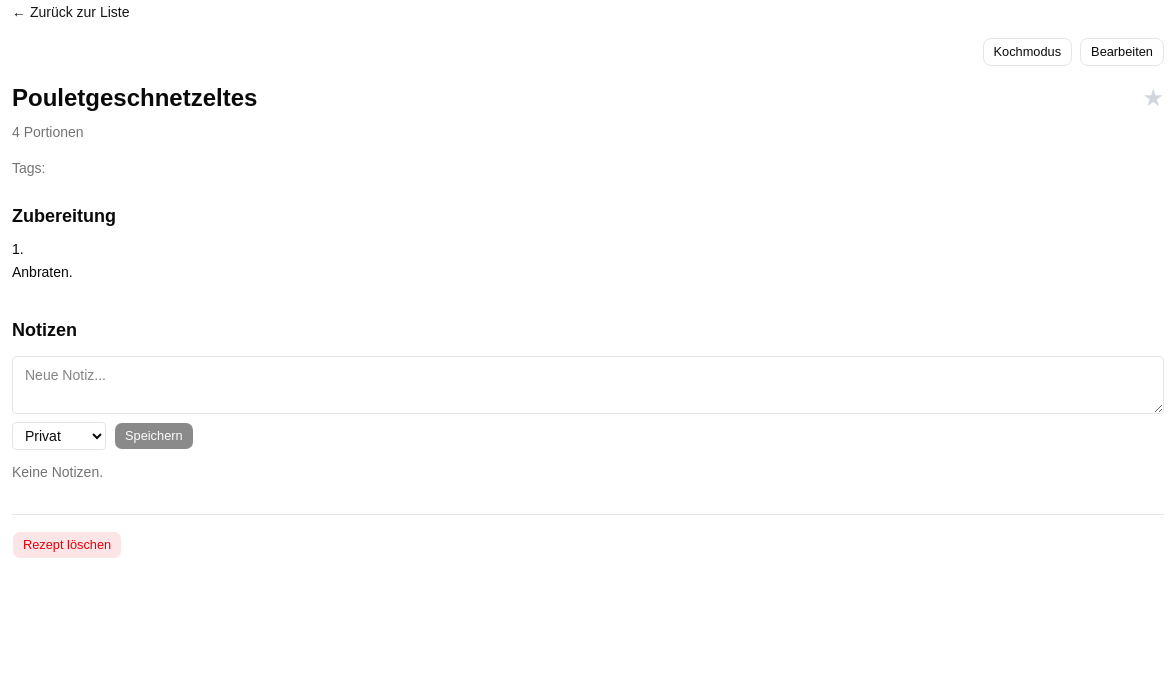
Test: RecipeDetailPage extended edit mode › edit form toggle reveals extended fields
What coordinates should you click on to do the following:
click the button "Bearbeiten"
I would click on:
 (1122, 52)
Its box is [1080,38,1164,66].
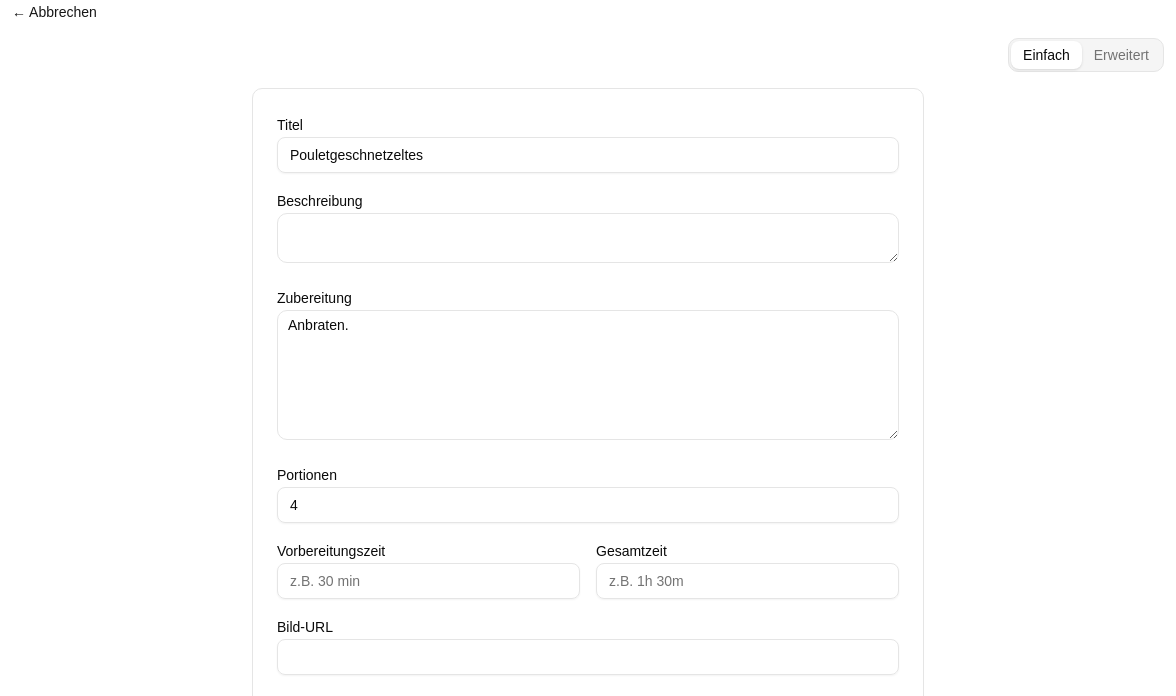
Expected: the field labelled "kochzeit" is not shown
Expected: the field labelled "autor" is not shown
What coordinates should you click on to do the following:
click the button "Erweitert"
I would click on:
 (1121, 55)
Its box is [1082,41,1161,69].
(page scrolled)
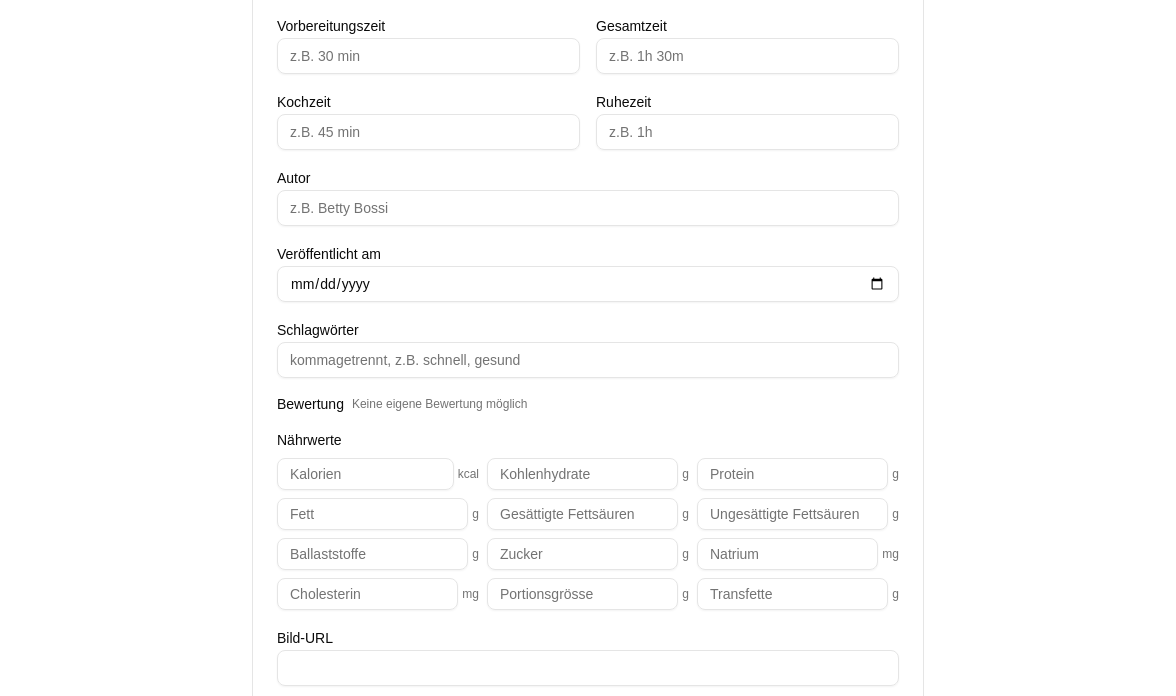
Expected: the field labelled "Kochzeit" is shown, [277,114,580,150]
Expected: the field labelled "Autor" is shown, [277,190,899,226]
Expected: the date field labelled "Veröffentlicht am" is shown, [277,266,899,302]
